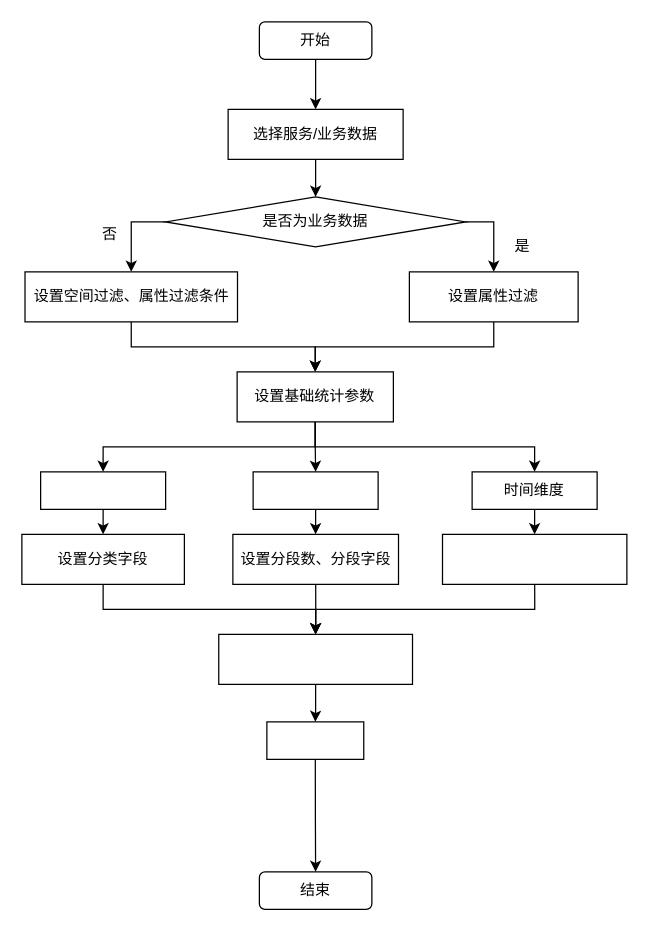
The diagram is 649 pixels wide and 931 high, and some of its shapes have lost their labels. Each missing label, with the centre of its shape:
"分段" belongs at point (315, 490).
"分类" belongs at point (102, 490).
"统计" belongs at point (315, 740).
"设置排序方式、统计类型" belongs at point (315, 658).
"设置时间字段、分类维度" belongs at point (534, 558).
